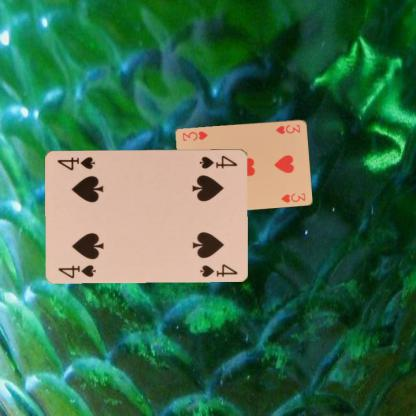3h: (273, 122, 302, 135)
4s: (197, 152, 239, 170), (56, 262, 97, 279)
